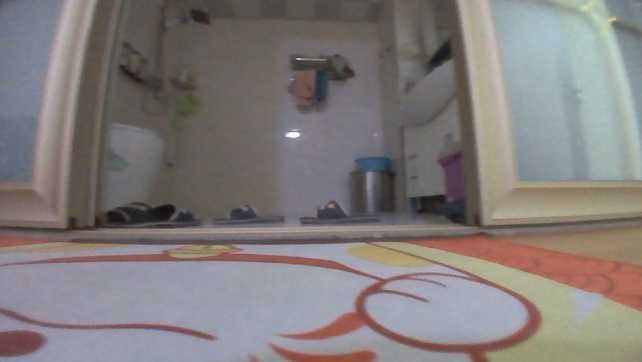blanket: (0, 233, 641, 360)
door_sill: (66, 220, 478, 238)
slipper: (117, 201, 202, 228), (300, 197, 379, 223), (214, 201, 285, 224)
toilet: (102, 119, 164, 210)
